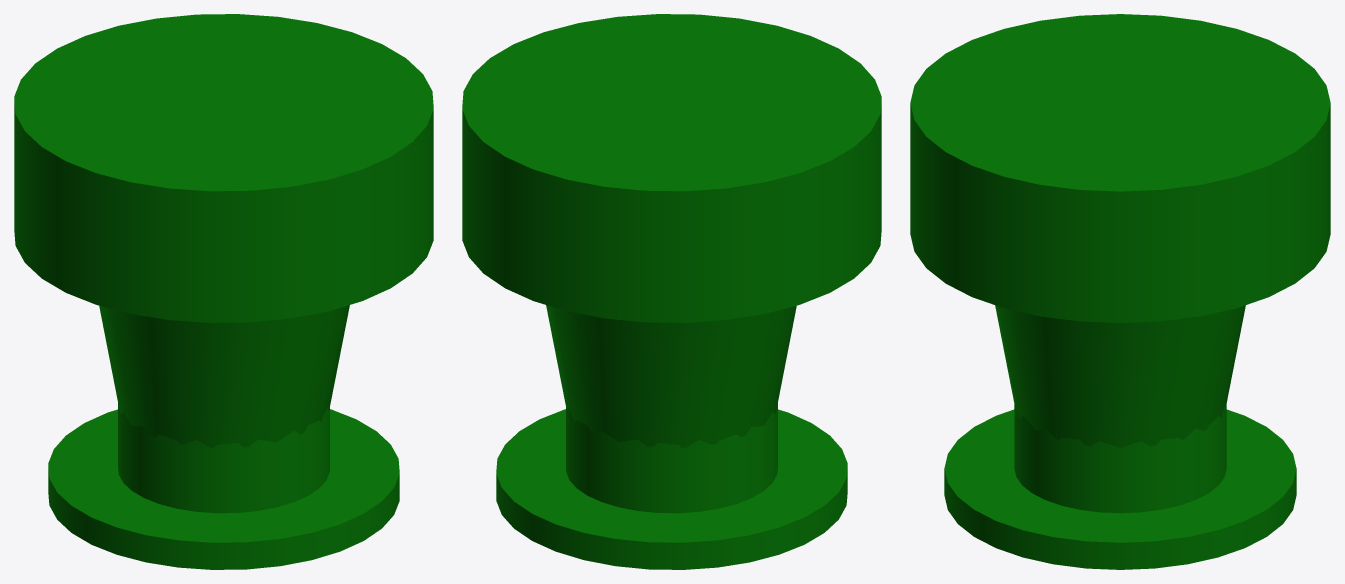
File: Image-1711348062597-2281221020592_27-CX55.fbx
3 renders of one model, left to right at view 1: azimuth 30°, elevation 25°; view 2: azimuth 150°, elevation 25°; view 3: azimuth 270°, elevation 25°, orthographic.
Parts seen in each view (by area): view 1: CYLINDER 2 of SUBEQUIPMENT 1 of EQUIPMENT /27-CX55, NOZZLE 1 of EQUIPMENT /27-CX55, CONE 1 of SUBEQUIPMENT 1 of EQUIPMENT /27-CX55; view 2: CYLINDER 2 of SUBEQUIPMENT 1 of EQUIPMENT /27-CX55, NOZZLE 1 of EQUIPMENT /27-CX55, CONE 1 of SUBEQUIPMENT 1 of EQUIPMENT /27-CX55; view 3: CYLINDER 2 of SUBEQUIPMENT 1 of EQUIPMENT /27-CX55, NOZZLE 1 of EQUIPMENT /27-CX55, CONE 1 of SUBEQUIPMENT 1 of EQUIPMENT /27-CX55.
Boxes of the visible parts, bbox=[...] form: CYLINDER 2 of SUBEQUIPMENT 1 of EQUIPMENT /27-CX55: bbox=[14, 14, 433, 322]; NOZZLE 1 of EQUIPMENT /27-CX55: bbox=[48, 403, 399, 569]; CONE 1 of SUBEQUIPMENT 1 of EQUIPMENT /27-CX55: bbox=[99, 305, 349, 447]; CYLINDER 2 of SUBEQUIPMENT 1 of EQUIPMENT /27-CX55: bbox=[462, 14, 881, 322]; NOZZLE 1 of EQUIPMENT /27-CX55: bbox=[496, 403, 847, 569]; CONE 1 of SUBEQUIPMENT 1 of EQUIPMENT /27-CX55: bbox=[546, 305, 796, 447]; CYLINDER 2 of SUBEQUIPMENT 1 of EQUIPMENT /27-CX55: bbox=[910, 14, 1330, 322]; NOZZLE 1 of EQUIPMENT /27-CX55: bbox=[944, 404, 1296, 569]; CONE 1 of SUBEQUIPMENT 1 of EQUIPMENT /27-CX55: bbox=[995, 305, 1245, 447].
Size of the model in its own units: 0.333 by 0.333 by 0.355.
